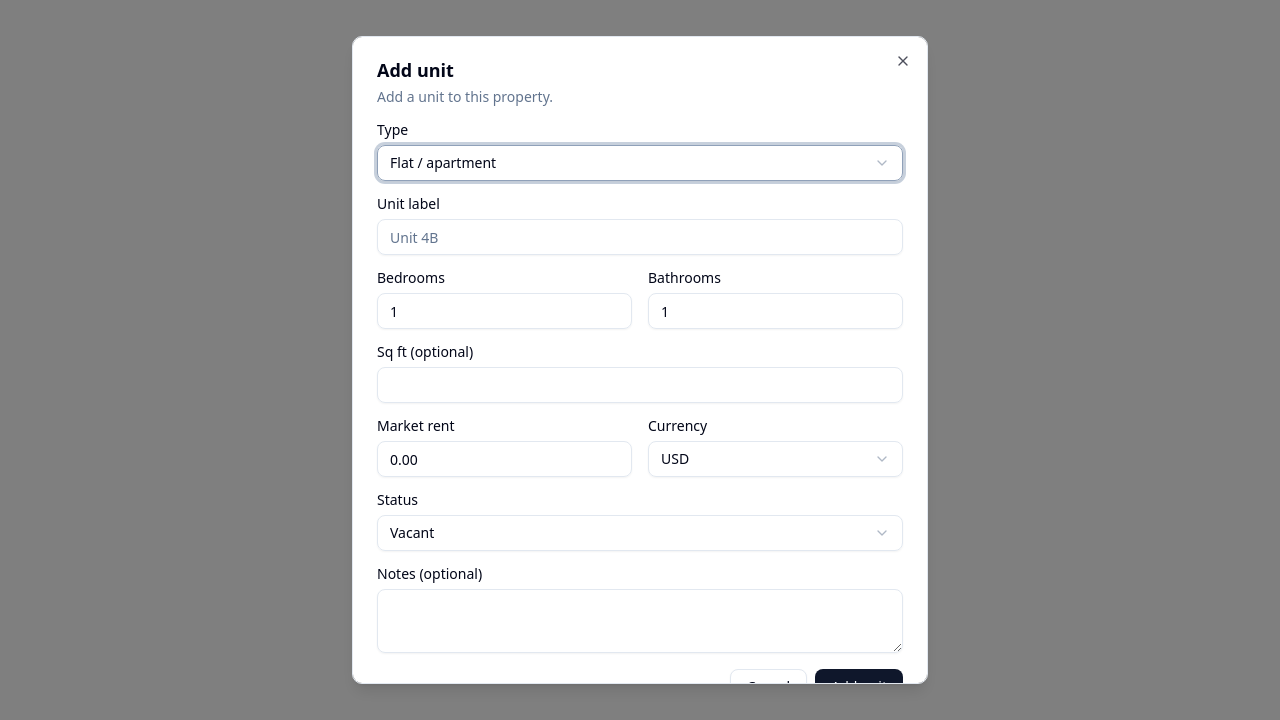
UnitFormDialog › offers NPR alongside the other currencies (docs/BUGS.md #3)
Click the dropdown named "currency".
click(776, 459)  # box [648,441,903,477]
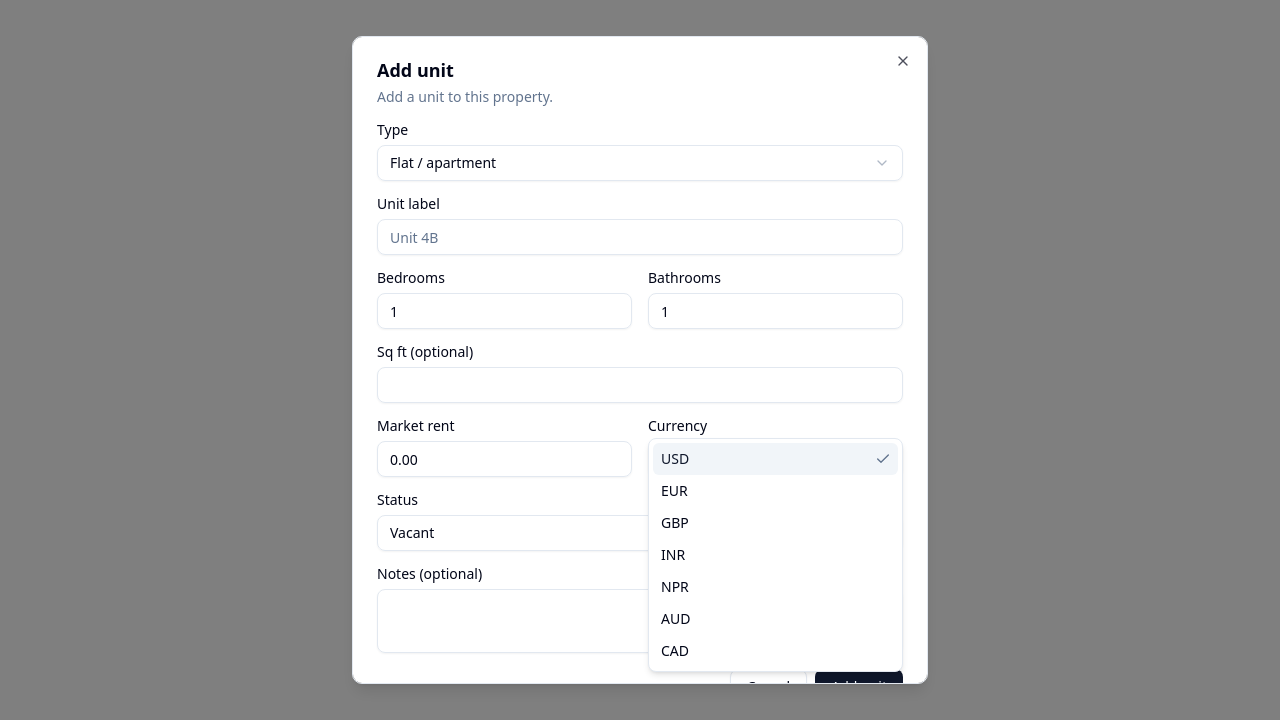
expect the option "NPR" is shown: met, box [661,577,689,596]
